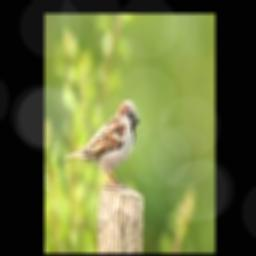Sparrow: (61, 99, 139, 188)
